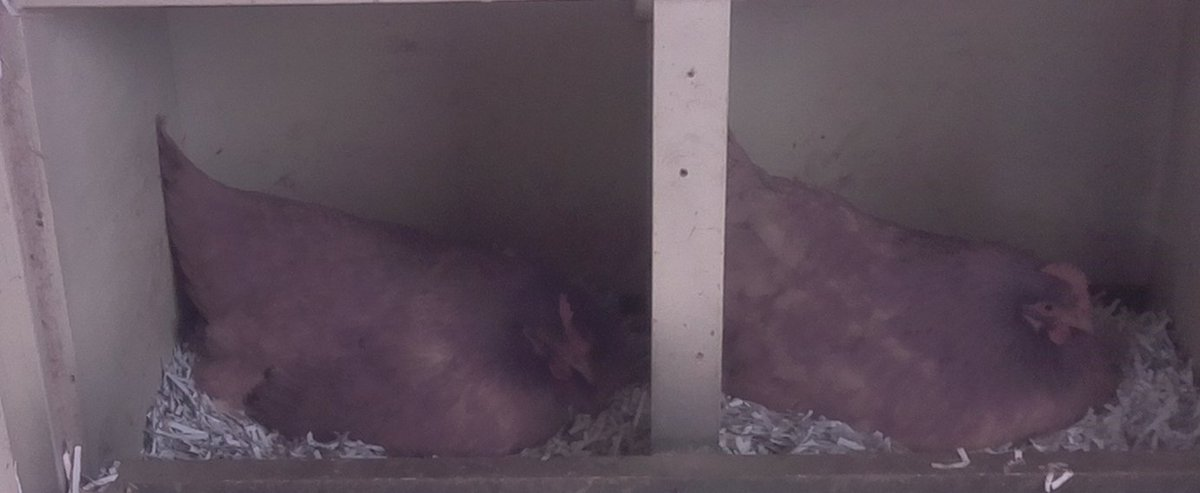hen: (155, 133, 631, 462), (729, 139, 1124, 449)
